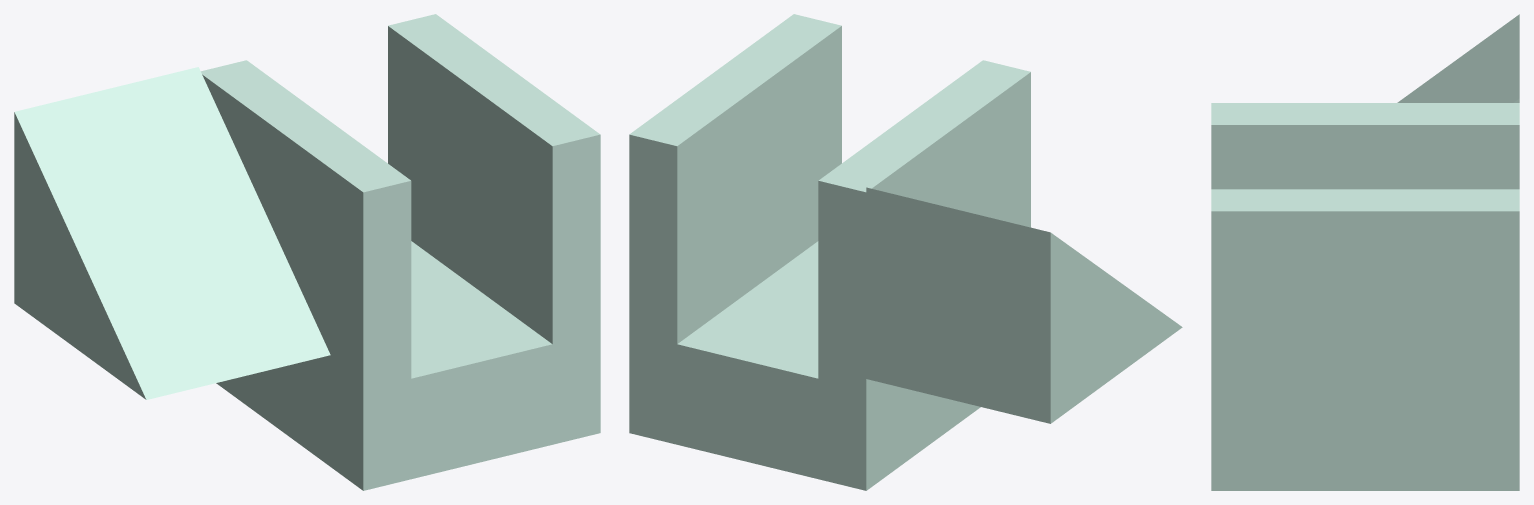
3 views of the same model, side by side, from view 1: azimuth 30°, elevation 25°; view 2: azimuth 150°, elevation 25°; view 3: azimuth 270°, elevation 25° (orthographic). The views are drawn at different scales.
Visible parts, largest first — view 1: Renderer Node; view 2: Renderer Node; view 3: Renderer Node.
Boxes of the visible parts, x1,y1,x2,y2 form: Renderer Node: (14,14,600,490); Renderer Node: (629,14,1182,490); Renderer Node: (1211,14,1519,490).
Bounding box in the file's own units: 1.11 × 0.7625 × 0.75.
